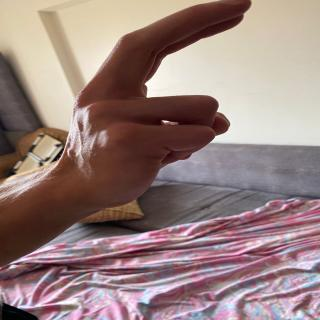ZAY: (46, 0, 267, 206)
